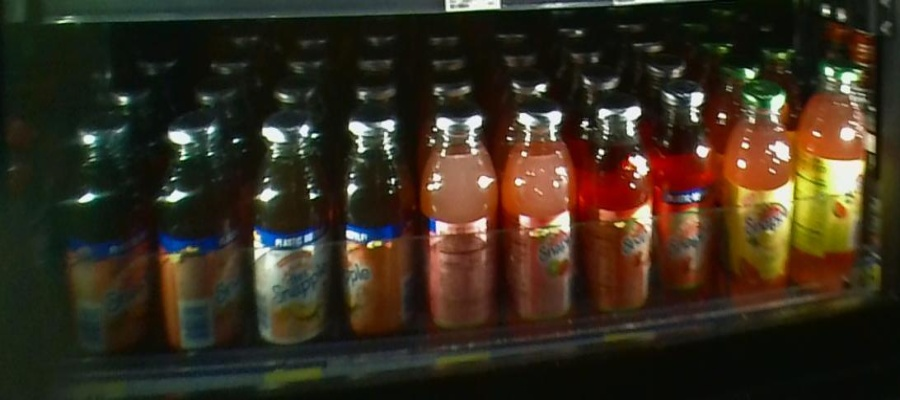bottle: (149, 116, 241, 372), (55, 103, 143, 366), (244, 102, 332, 364), (335, 106, 415, 365), (499, 92, 578, 335), (725, 74, 801, 326), (421, 104, 497, 352), (579, 98, 654, 329), (801, 64, 866, 310), (654, 86, 718, 315)
